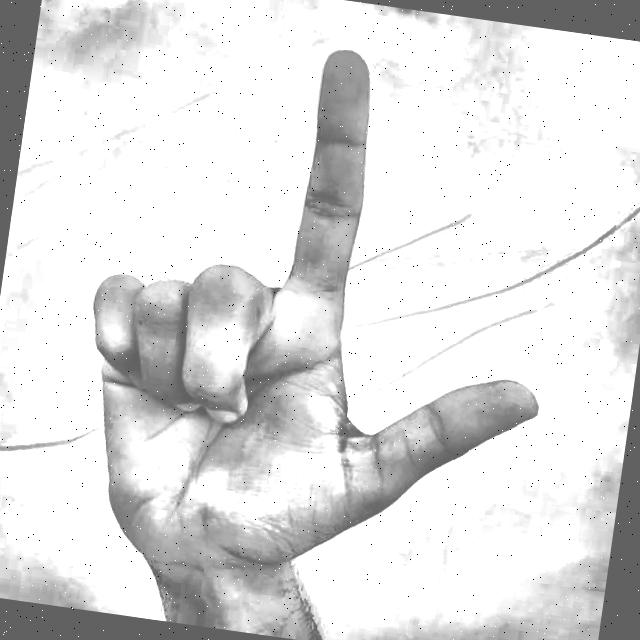La: (0, 0, 608, 640)
